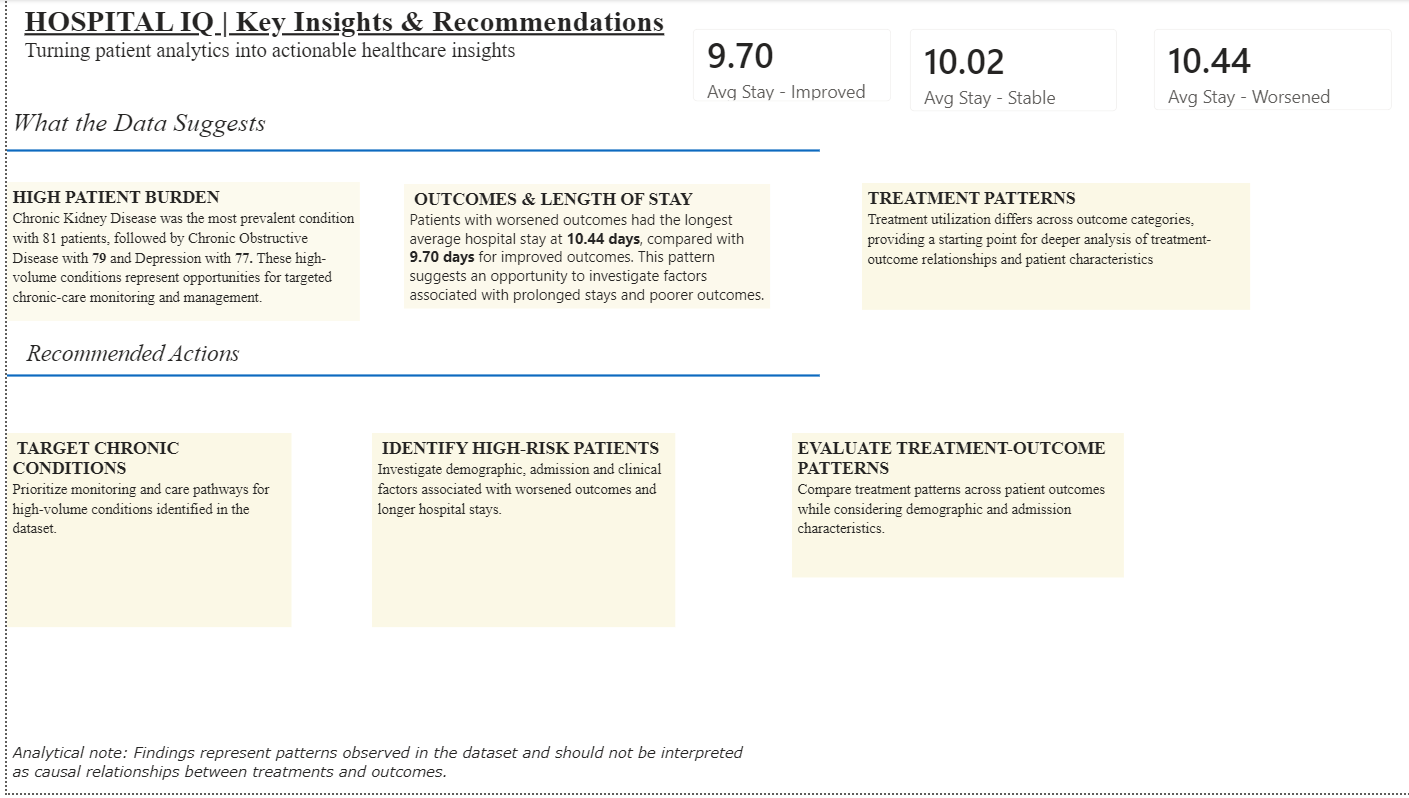

Layout of this report page (visuals, bound fields, positions):
{"tool":"powerbi","page":{"name":"Key Insights & Recommendations","canvas":[1280,720],"ordinal":2},"visuals":[{"type":"textbox","box":[10.6,0,1055.4,93.2],"z":0},{"type":"textbox","box":[0,93.4,288.2,50.9],"z":1000},{"type":"textbox","box":[0,166.3,320,125.7],"z":2000},{"type":"textbox","box":[360,167.8,331.9,113.4],"z":3000},{"type":"textbox","box":[775.3,166.9,351.8,115.2],"z":4000},{"type":"textbox","box":[0,304.7,228.5,36.3],"z":5000},{"type":"textbox","box":[0,393.6,258.4,175.9],"z":6000},{"type":"textbox","box":[331,393.6,274.8,175.9],"z":7000},{"type":"textbox","box":[711.8,393.6,301.1,131.5],"z":8000},{"type":"textbox","box":[0,669.2,678.3,50.8],"z":8001},{"type":"shape","box":[0,118.8,737.2,37.2],"z":8002},{"type":"shape","box":[0,322.8,737.2,37.2],"z":8003},{"type":"cardVisual","fields":{"Data":["Patients.Avg Stay - Improved"]},"box":[604.4,10.2,214.6,100.3],"z":8004},{"type":"cardVisual","fields":{"Data":["Patients.Avg Stay - Stable"]},"box":[801.3,10.2,222.2,109.2],"z":8005},{"type":"cardVisual","fields":{"Data":["Patients.Avg Stay - Worsened"]},"box":[1022.9,10,250.3,108.8],"z":8006}]}

Visuals, with their boxes in screenshot pixels (x1, y1, x2, y2), scaled from the page's 1280x720 canvas onto the 1409x798 screenshot:
textbox: [12,0,1173,103]
textbox: [0,104,317,160]
textbox: [0,184,352,324]
textbox: [396,186,762,312]
textbox: [853,185,1241,313]
textbox: [0,338,252,378]
textbox: [0,436,284,631]
textbox: [364,436,667,631]
textbox: [784,436,1115,582]
textbox: [0,742,747,797]
shape: [0,132,811,173]
shape: [0,358,811,399]
cardVisual - Patients.Avg Stay - Improved: [665,11,902,122]
cardVisual - Patients.Avg Stay - Stable: [882,11,1127,132]
cardVisual - Patients.Avg Stay - Worsened: [1126,11,1402,132]
